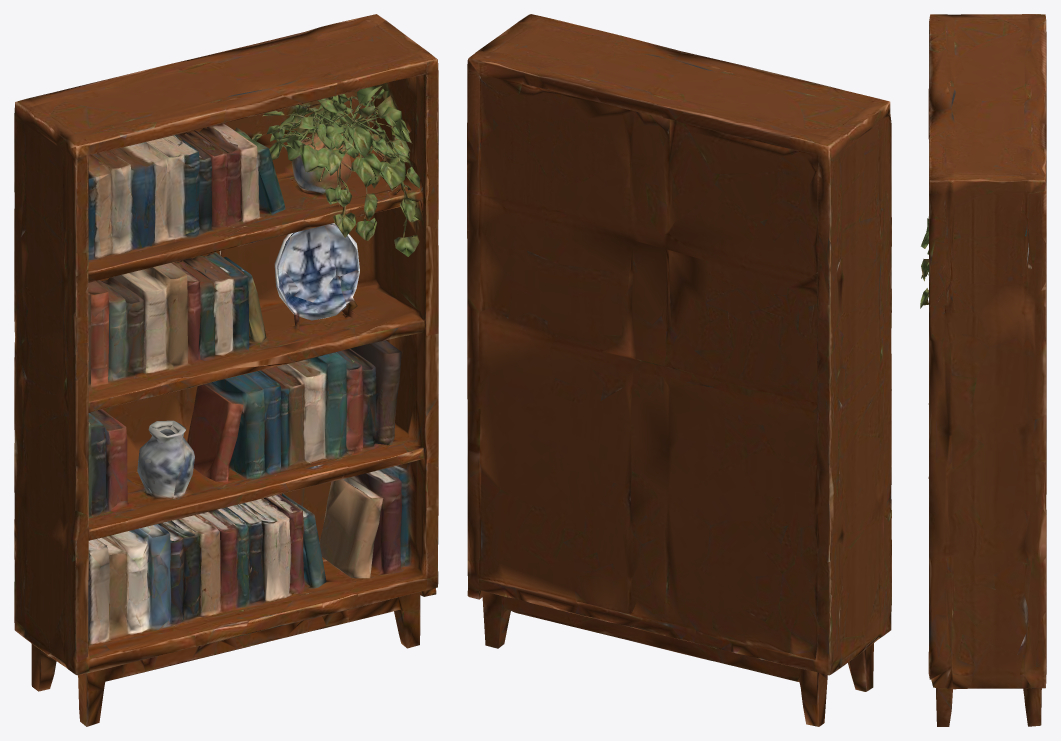
Rendered from bookshelf.glb.
3 renders of one model, left to right at view 1: azimuth 30°, elevation 25°; view 2: azimuth 150°, elevation 25°; view 3: azimuth 270°, elevation 25°, orthographic. The views are drawn at different scales.
Bounding box in the file's own units: 1.23 × 1.9 × 0.3929.
1 material, 1 textured.
